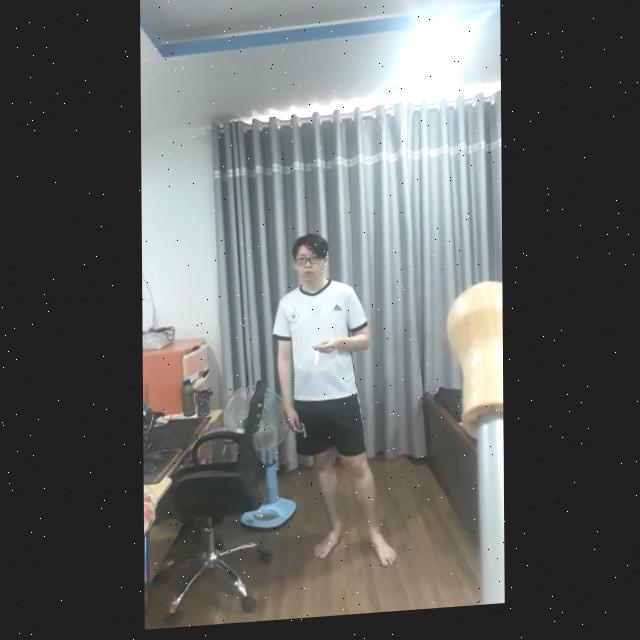cigarette: (314, 355, 321, 372)
